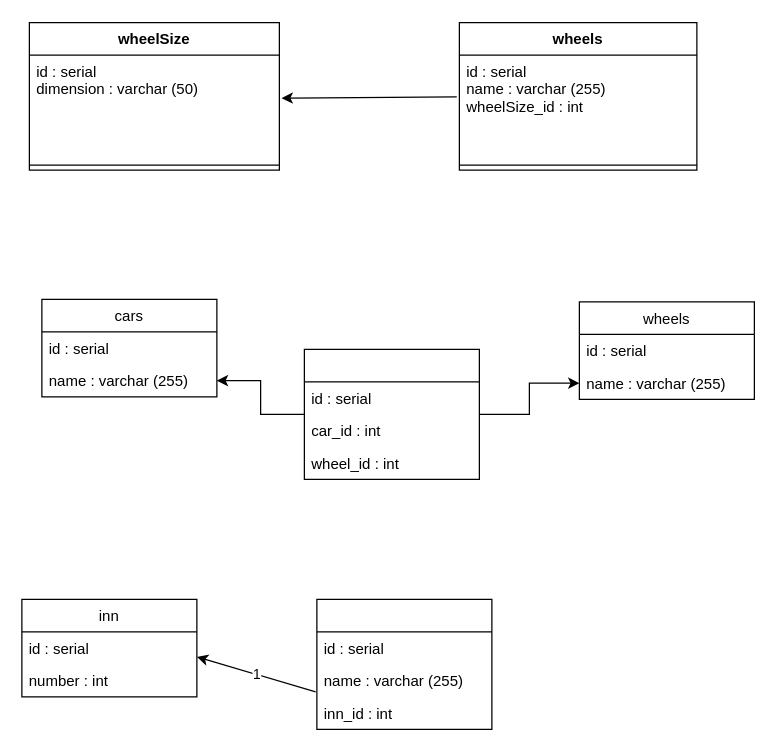
Image size: 776x754. Some labels were removed from this diagram. The shapes that lost their labels are listed below. From the top down, each one's box as (x1, y1, x2, y2) in pixels, then its label:
(303, 348, 479, 479): cars_wheels
(316, 598, 492, 729): peoples
